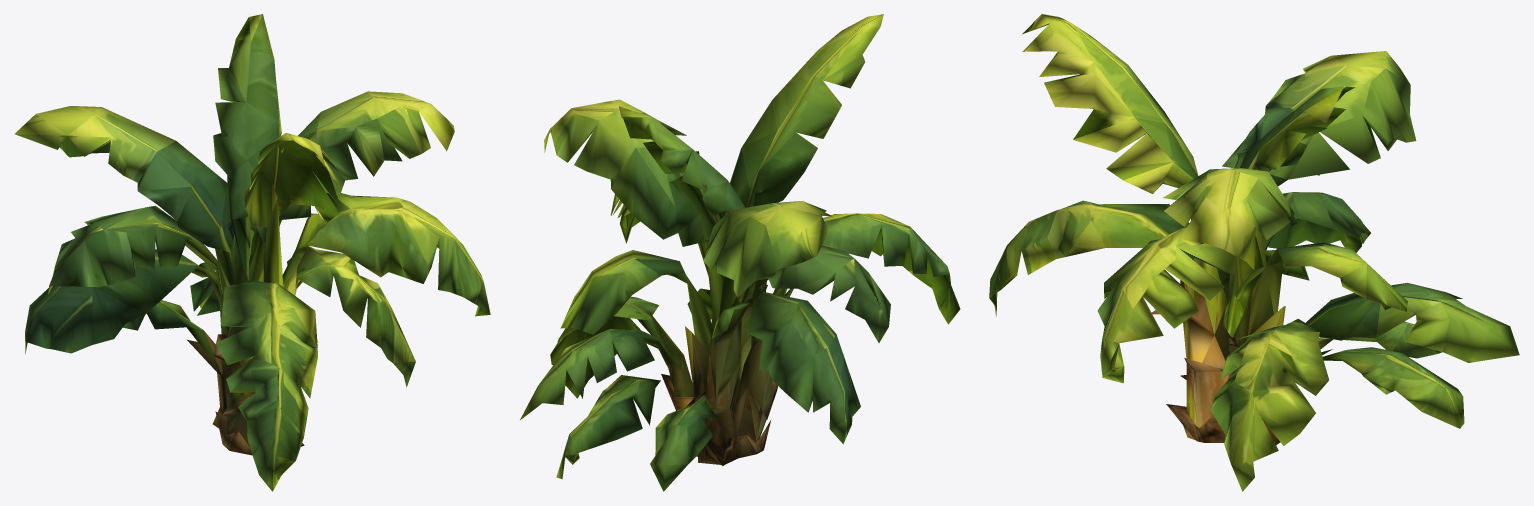
Rendered from bananaPlant.glb.
The picture shows the model from 3 angles, left to right: view 1: azimuth 30°, elevation 25°; view 2: azimuth 150°, elevation 25°; view 3: azimuth 270°, elevation 25°; orthographic projection. The views are drawn at different scales.
Visible parts, largest first — view 1: BananaPlantMesh; view 2: BananaPlantMesh; view 3: BananaPlantMesh.
Boxes of the visible parts, x1,y1,x2,y2 form: BananaPlantMesh: (14,14,490,491); BananaPlantMesh: (520,14,960,491); BananaPlantMesh: (989,14,1519,491).
Size of the model in its own units: 3.37 by 3.34 by 4.12.
1 material, 1 textured.
